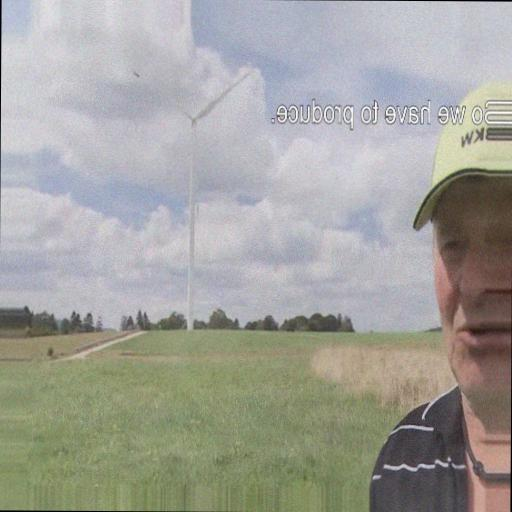wind turbine: (129, 68, 251, 330)
